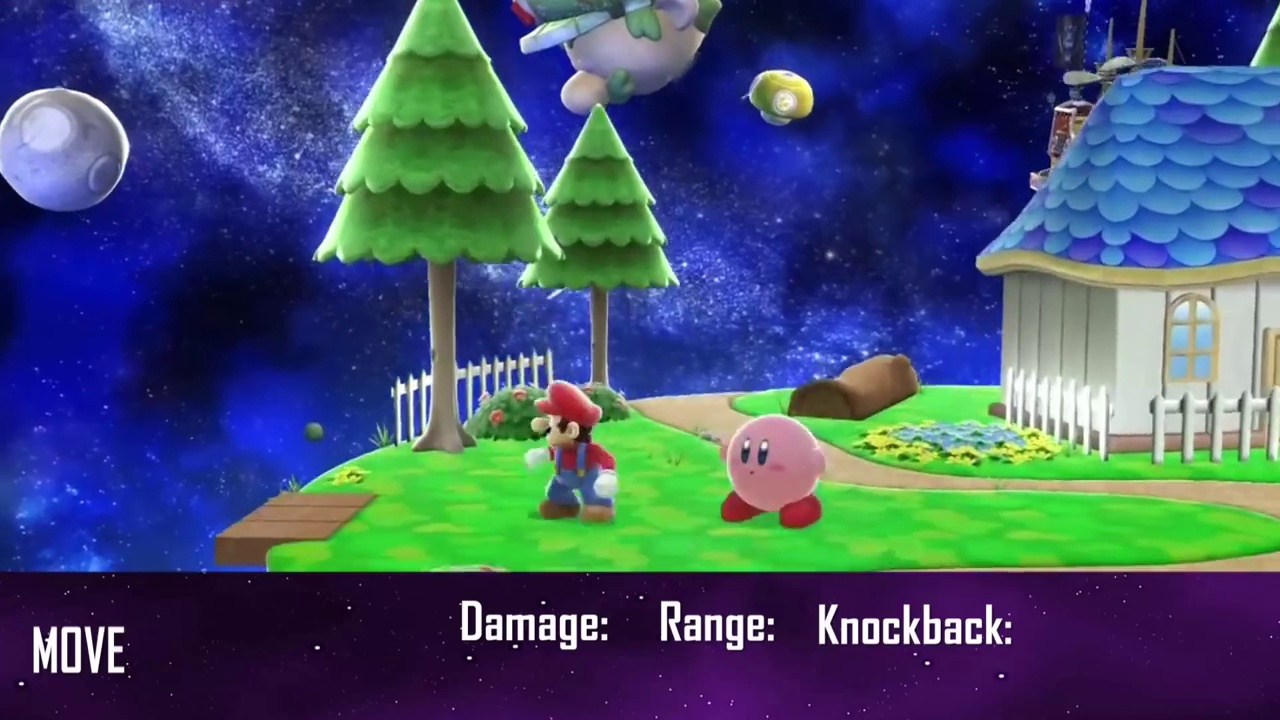Mario: (525, 381, 617, 523)
